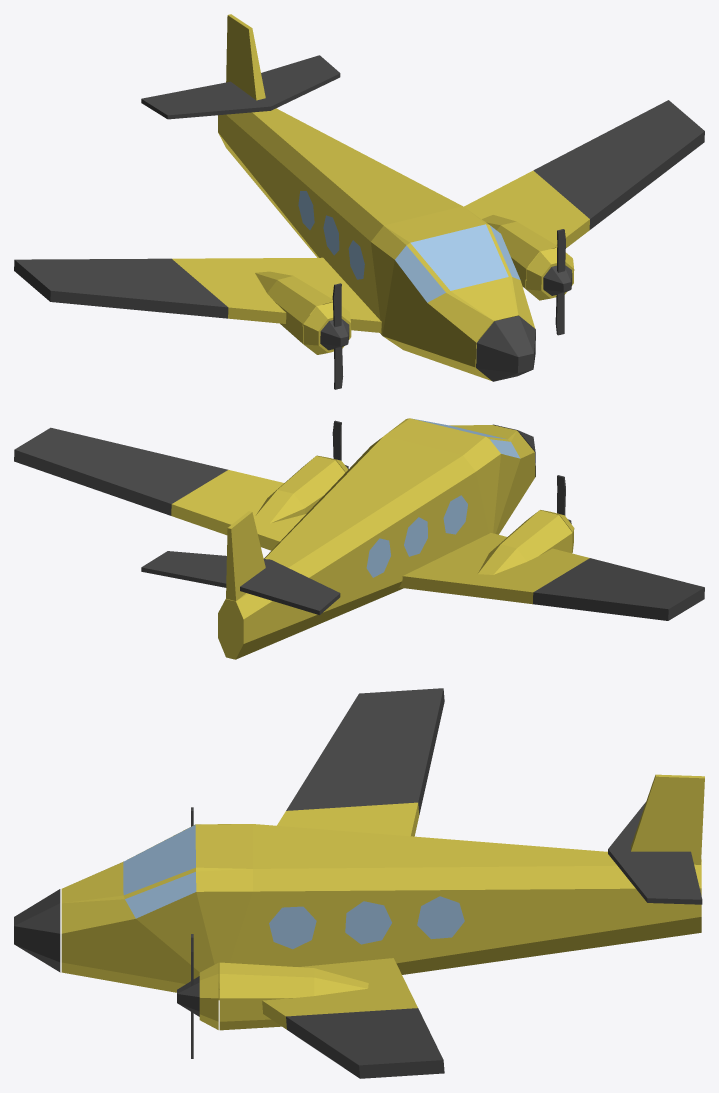
File: transport_air_007.fbx
3 renders of one model, top to bottom at view 1: azimuth 30°, elevation 25°; view 2: azimuth 150°, elevation 25°; view 3: azimuth 270°, elevation 25°, orthographic. The views are drawn at different scales.
Parts seen in each view (by area): view 1: transport_air_007; view 2: transport_air_007; view 3: transport_air_007.
Part boxes in pixels (<box>): transport_air_007: <box>14,14,704,389</box>; transport_air_007: <box>14,418,704,659</box>; transport_air_007: <box>14,688,704,1078</box>.
Bounding box in the file's own units: 1332 × 364 × 1046.
